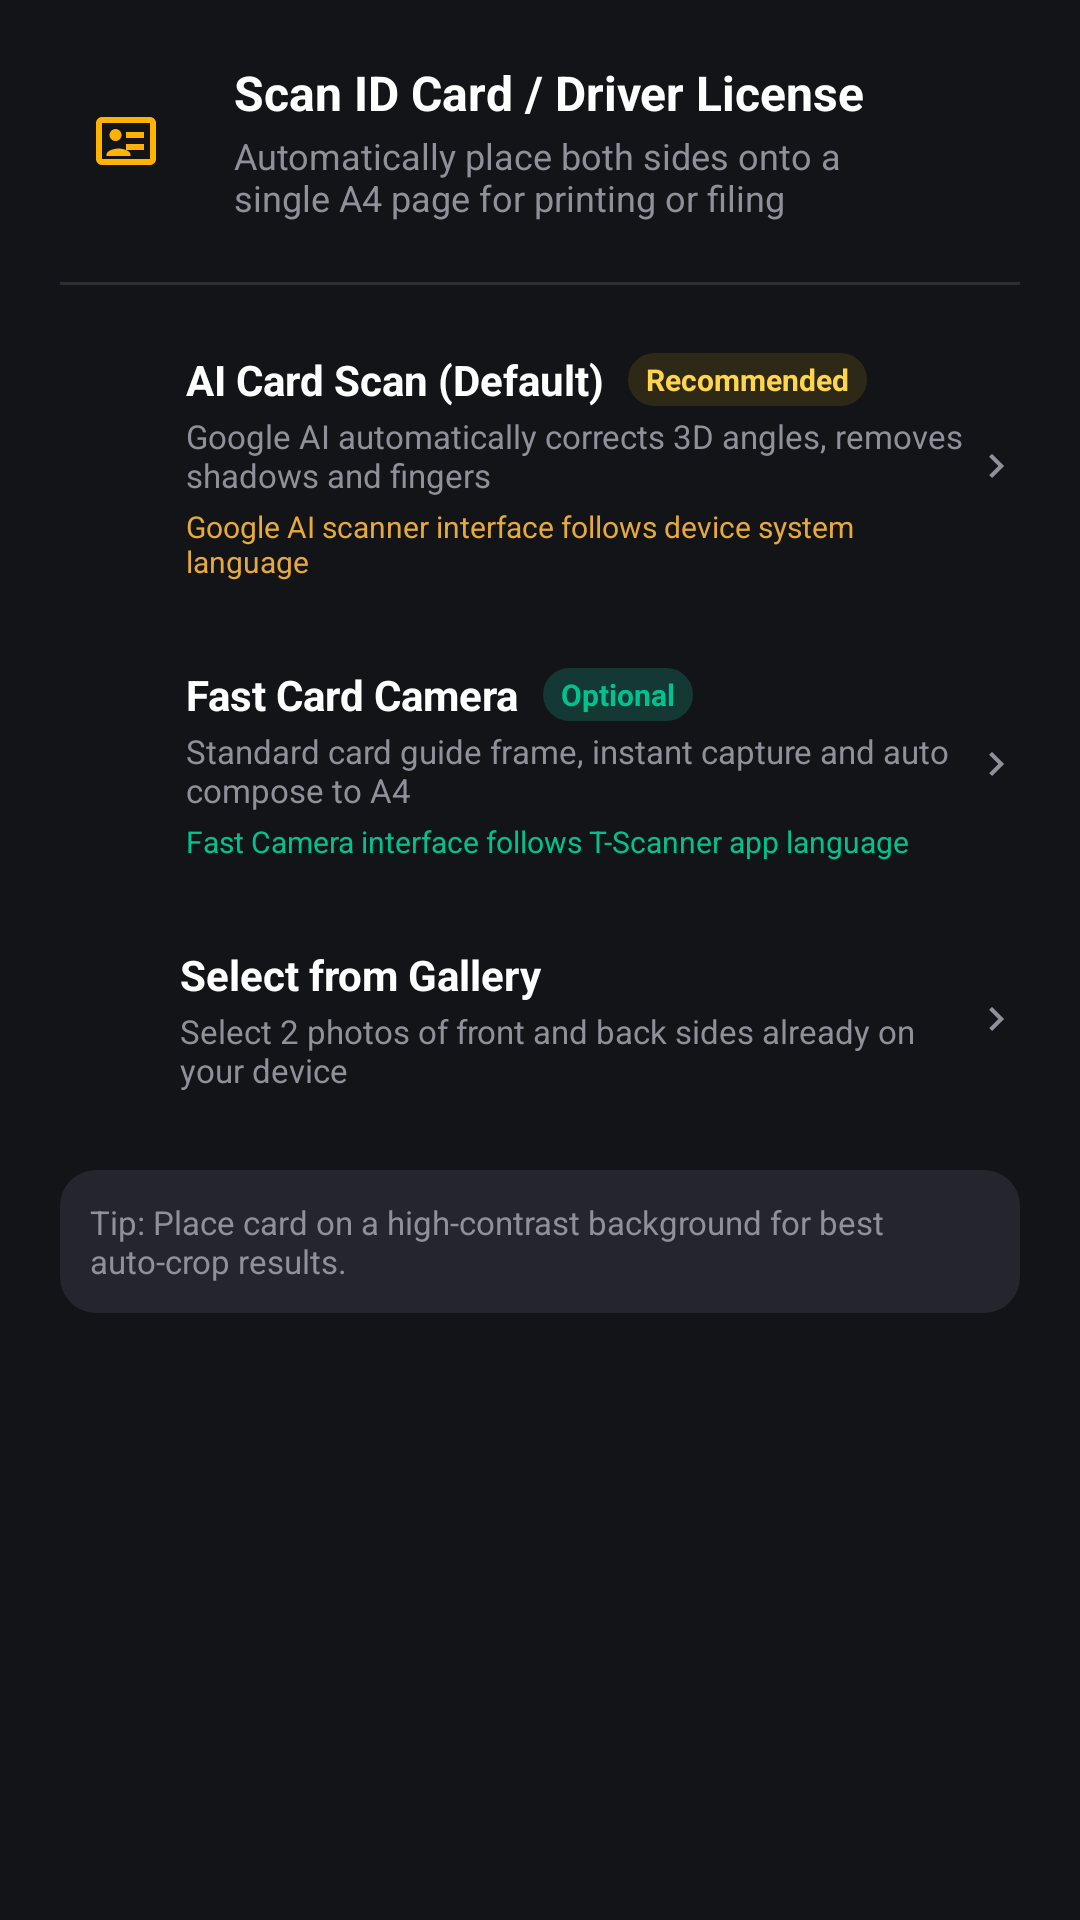

Icons on this 1080px x 1920px Android screen, each with the point to tap as point (x, y):
chevron right: point (996, 466), point (996, 764), point (996, 1019)
